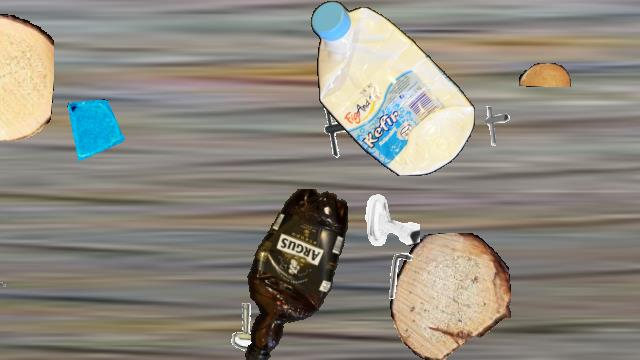glass: (64, 99, 128, 163)
metal: (313, 99, 373, 159), (362, 191, 420, 249), (221, 299, 277, 355), (375, 249, 429, 303), (473, 103, 517, 147), (0, 202, 15, 244), (0, 258, 11, 300)
plastic: (311, 1, 475, 175), (235, 189, 355, 359)
wood: (390, 233, 510, 359), (0, 14, 53, 140), (519, 63, 571, 87)
